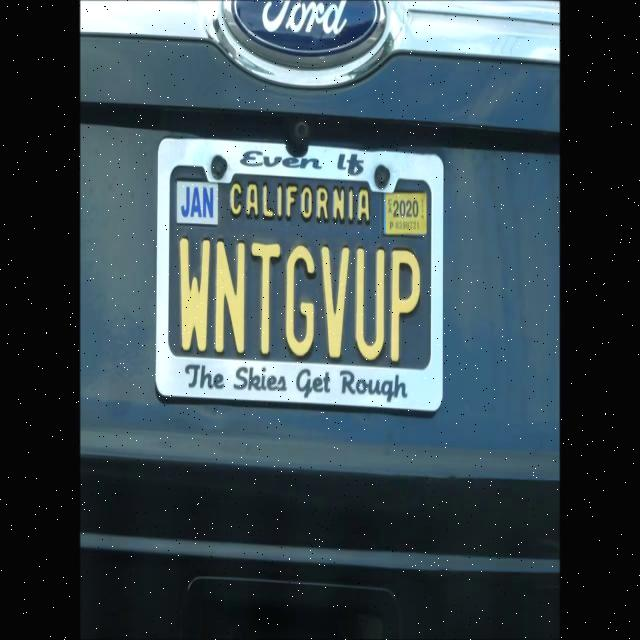licenseplate: (154, 142, 440, 409)
